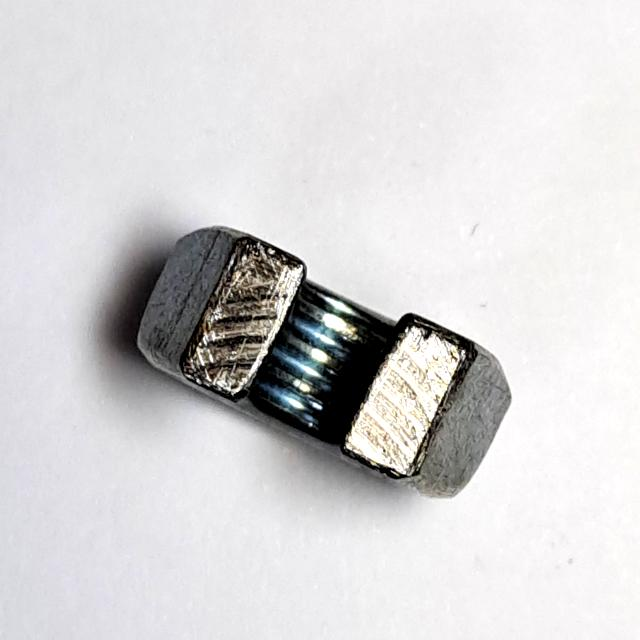Side-Fracture: (122, 205, 532, 525)
